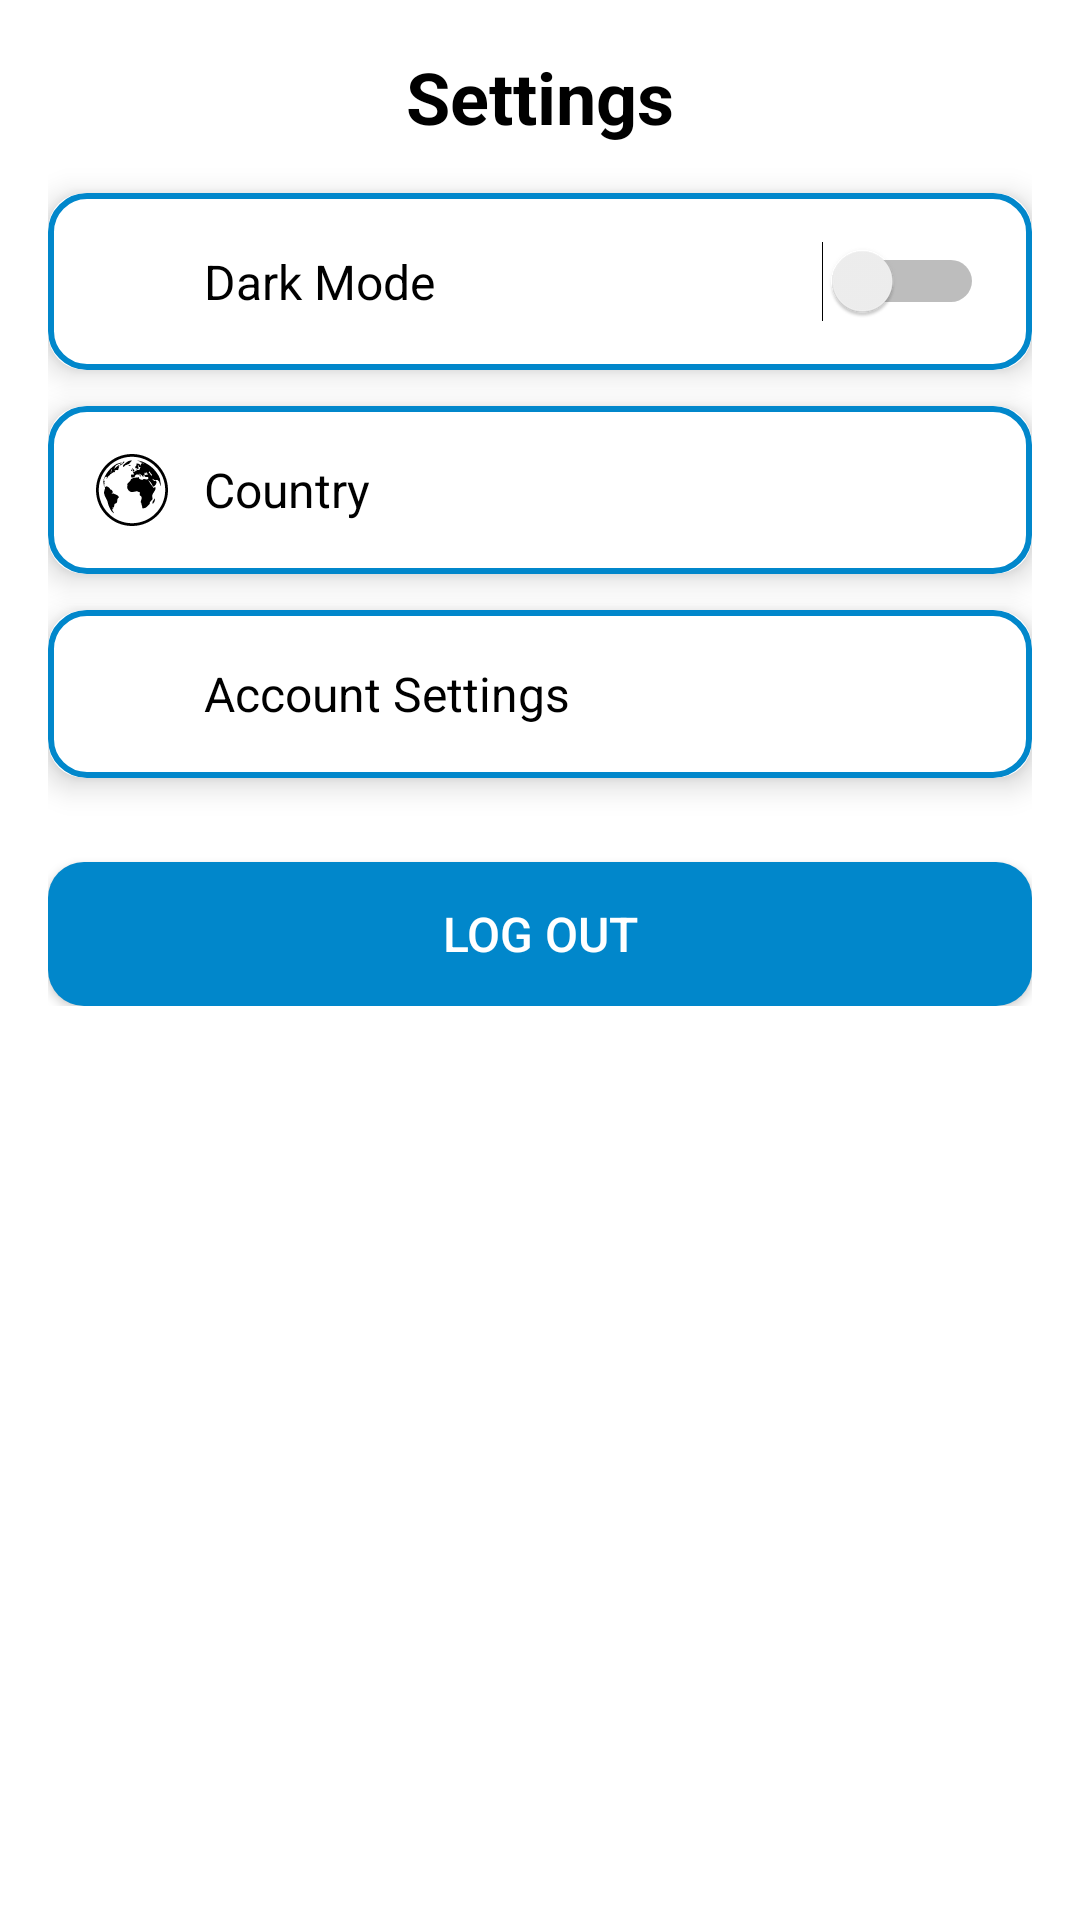

Icon bounding boxes for this 1080px x 1920px phone screenshot, format BBox(x1, y1, x2, y2):
world: BBox(96, 454, 168, 526)
